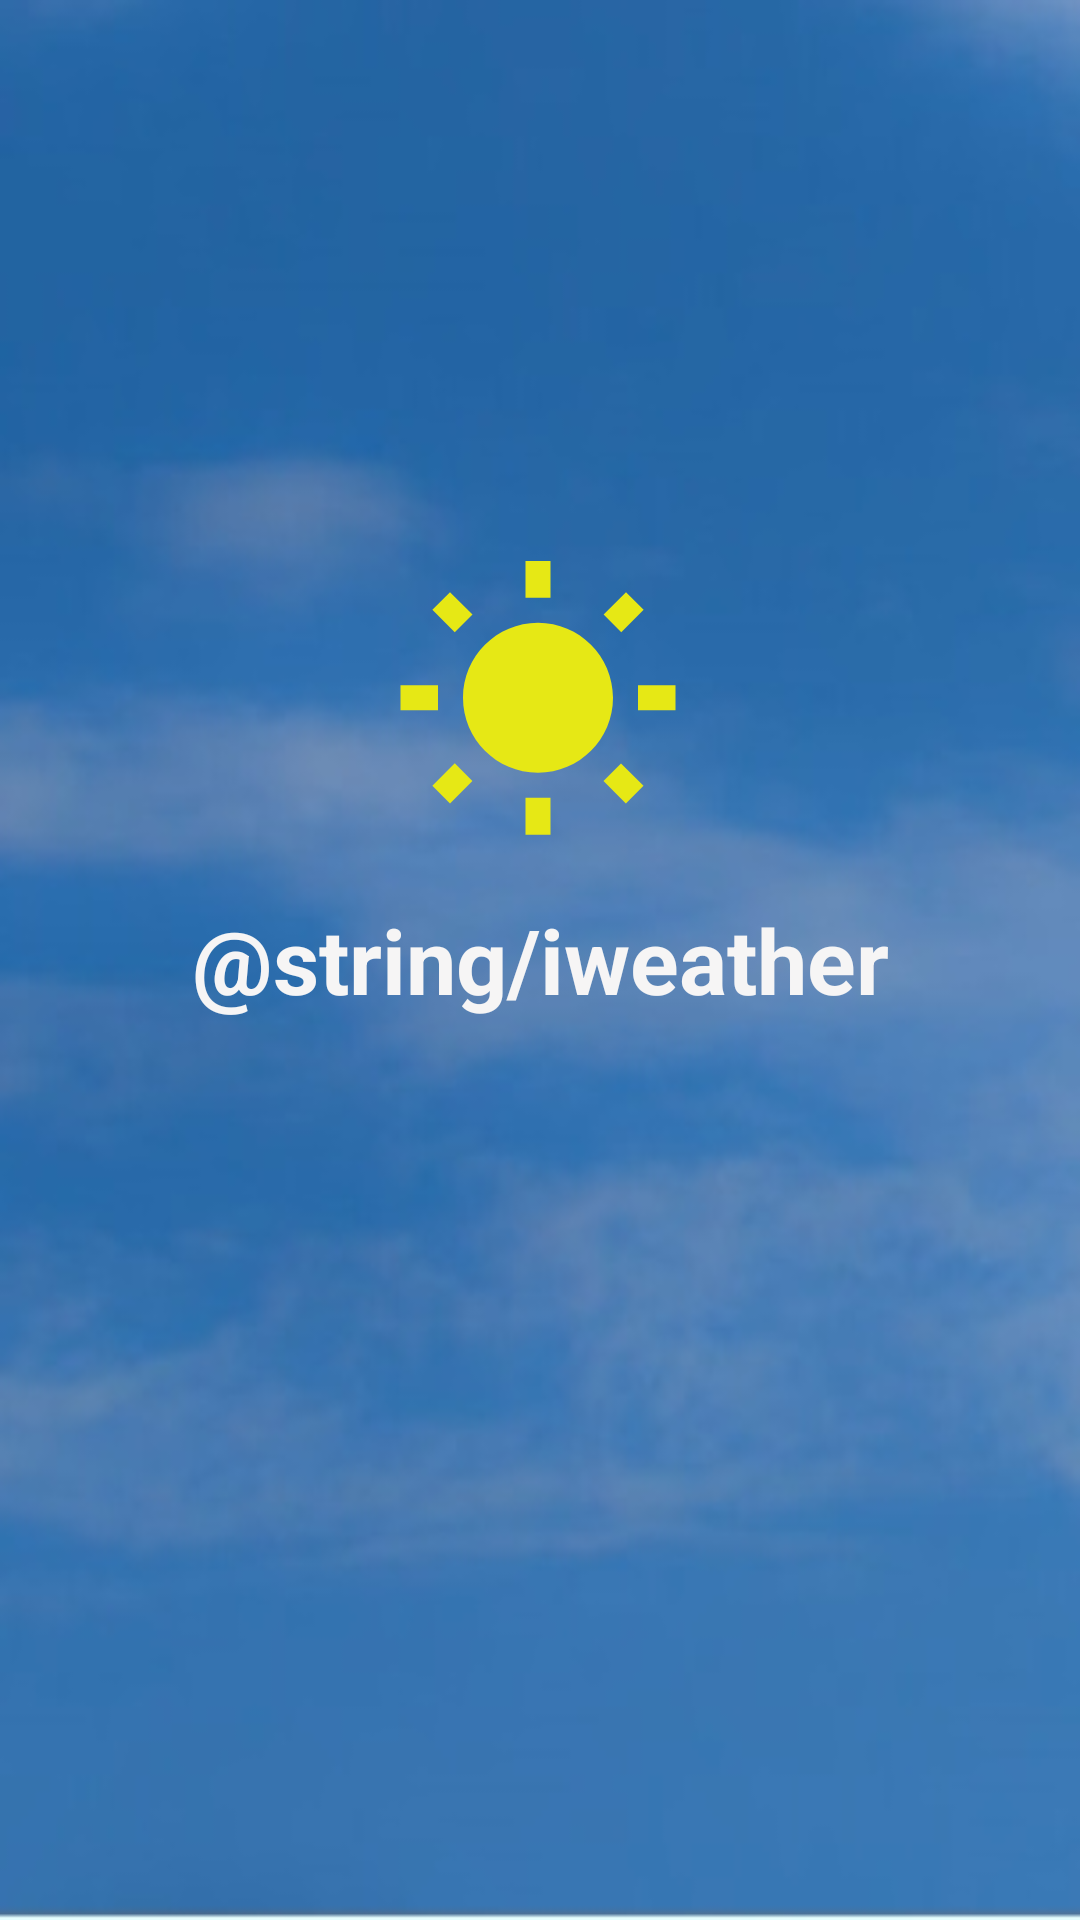

Screen size 1080×1920. Icon name, then its center in pixels as (x=x, y=y):
sunny: (x=538, y=704)
